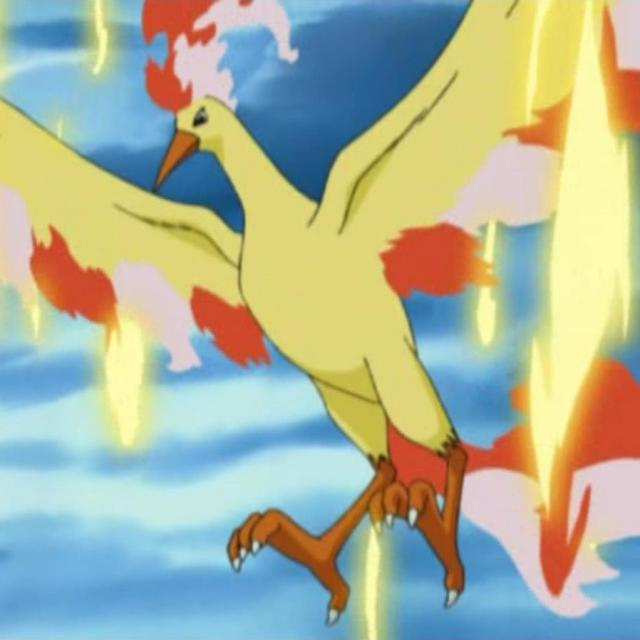Moltres: (97, 0, 509, 557)
